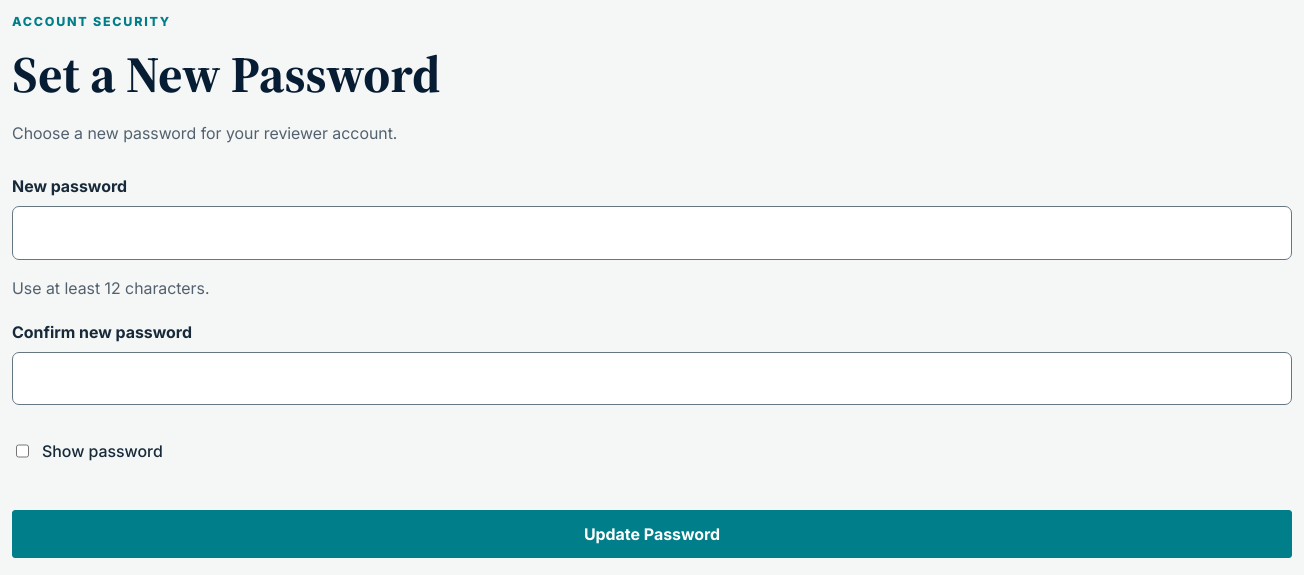
Test: Set a New Password › does not update if the session expires before submit
Check: the button "Update Password" is shown, box [12,510,1292,558]
In the password field labelled "New password": (652, 233) [12,206,1292,260], type "long-password-one"
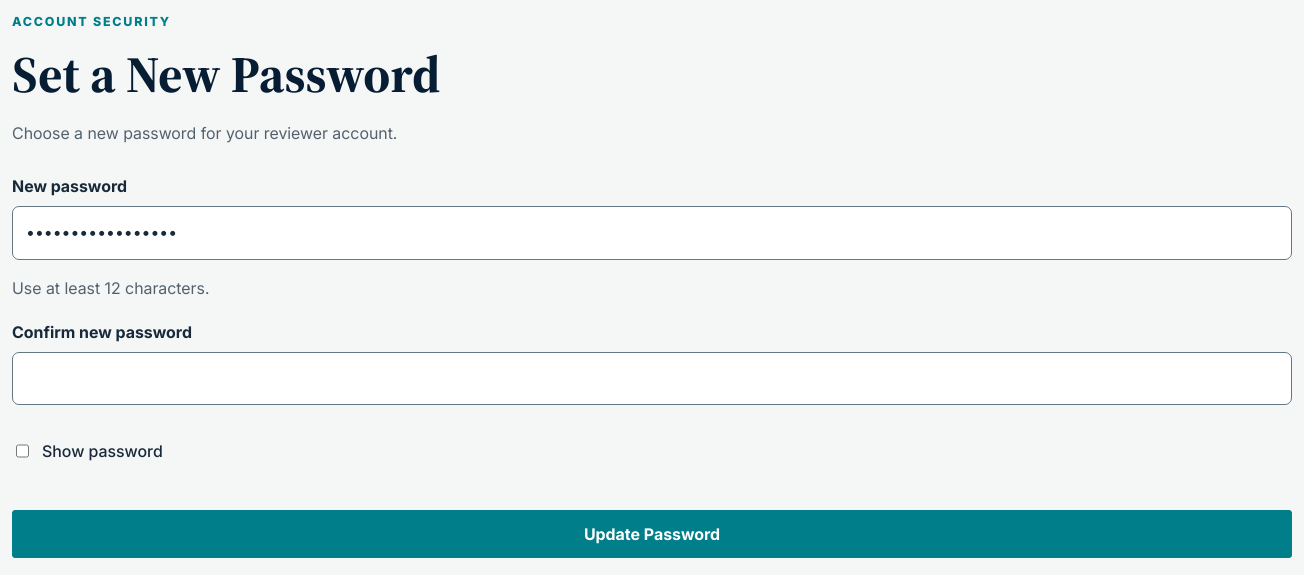
In the password field labelled "Confirm new password": (652, 379) [12,352,1292,405], type "long-password-one"
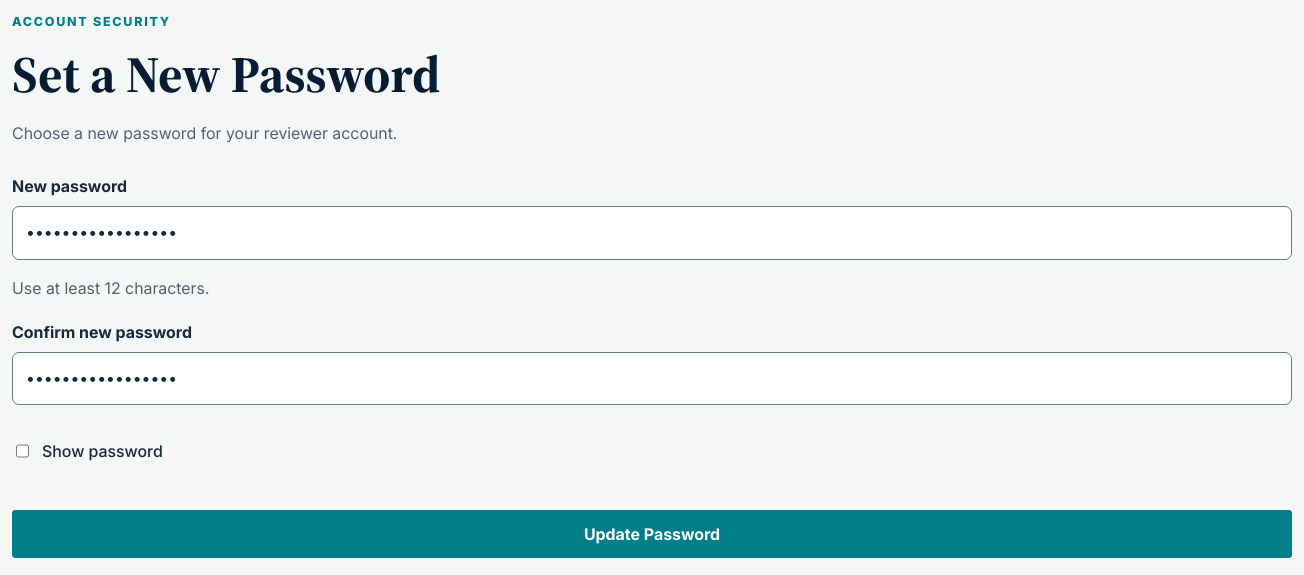
Click the button "Update Password": (652, 534) [12,510,1292,558]
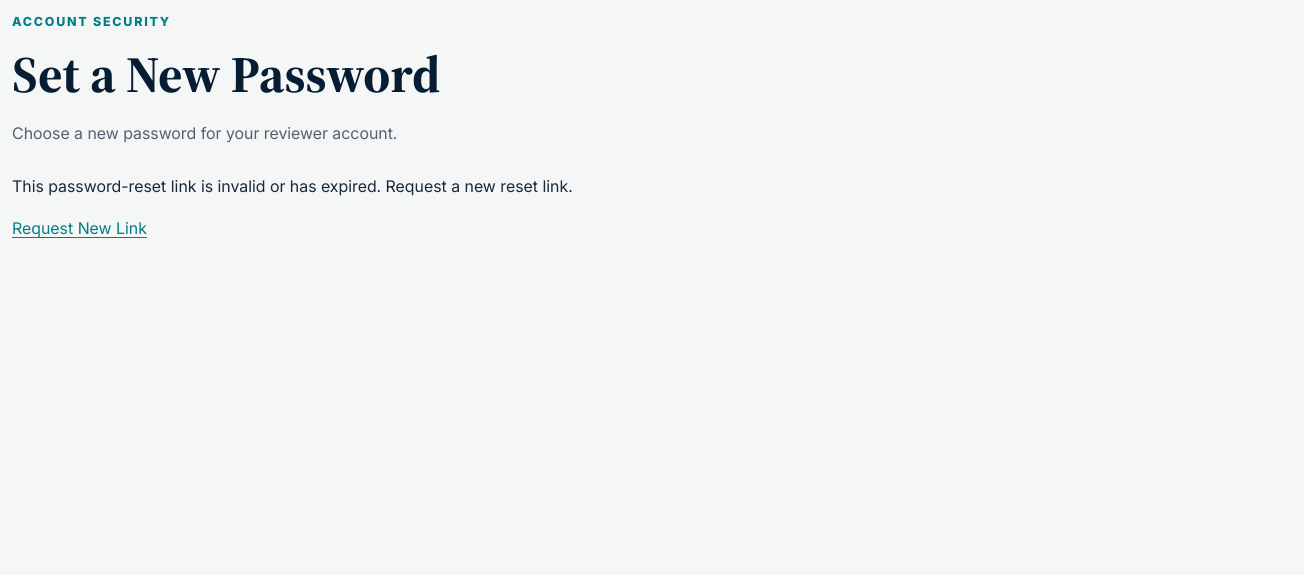
Check: the text "invalid or has expired" is shown, box [12,176,573,196]
